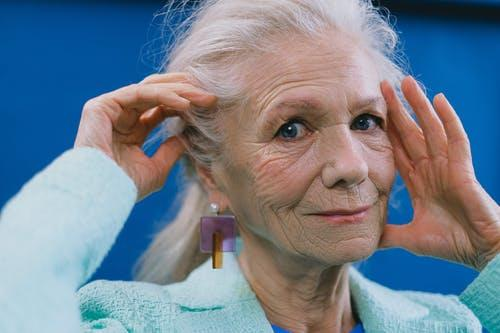Wrinkles: (263, 83, 321, 110), (260, 78, 319, 103), (277, 202, 303, 256), (256, 72, 297, 99), (282, 144, 312, 171), (259, 87, 280, 118), (257, 154, 292, 172), (301, 65, 355, 73), (272, 207, 285, 226), (249, 145, 267, 153)
